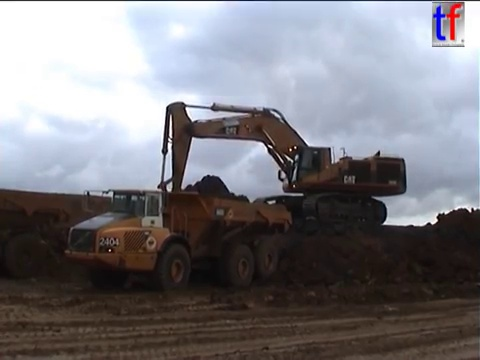excavator: (153, 99, 411, 230)
truck: (62, 181, 296, 293), (1, 186, 157, 282)
